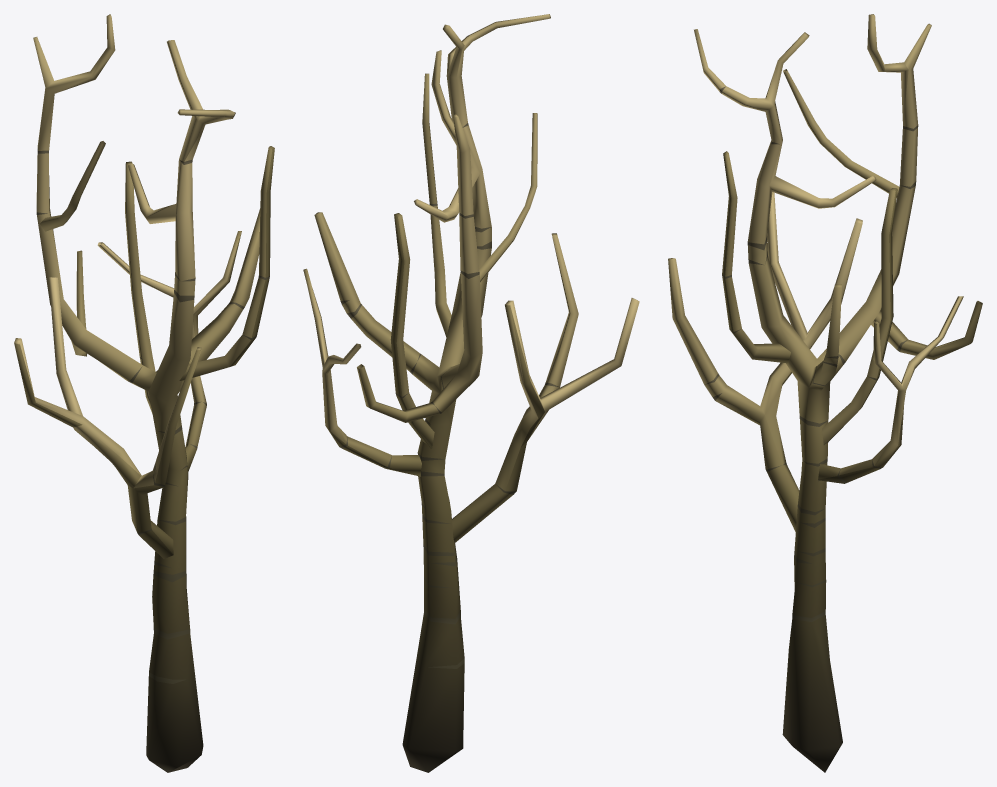
File: Dry_Tree_2C.fbx
3 views of the same model, side by side, from view 1: azimuth 30°, elevation 25°; view 2: azimuth 150°, elevation 25°; view 3: azimuth 270°, elevation 25° (orthographic). The views are drawn at different scales.
Visible parts, largest first — view 1: Dry_Tree_2C; view 2: Dry_Tree_2C; view 3: Dry_Tree_2C.
Boxes of the visible parts, x1,y1,x2,y2 form: Dry_Tree_2C: [14, 14, 274, 772]; Dry_Tree_2C: [303, 14, 639, 772]; Dry_Tree_2C: [668, 14, 982, 772].
Size of the model in its own units: 619 by 1531 by 596.
